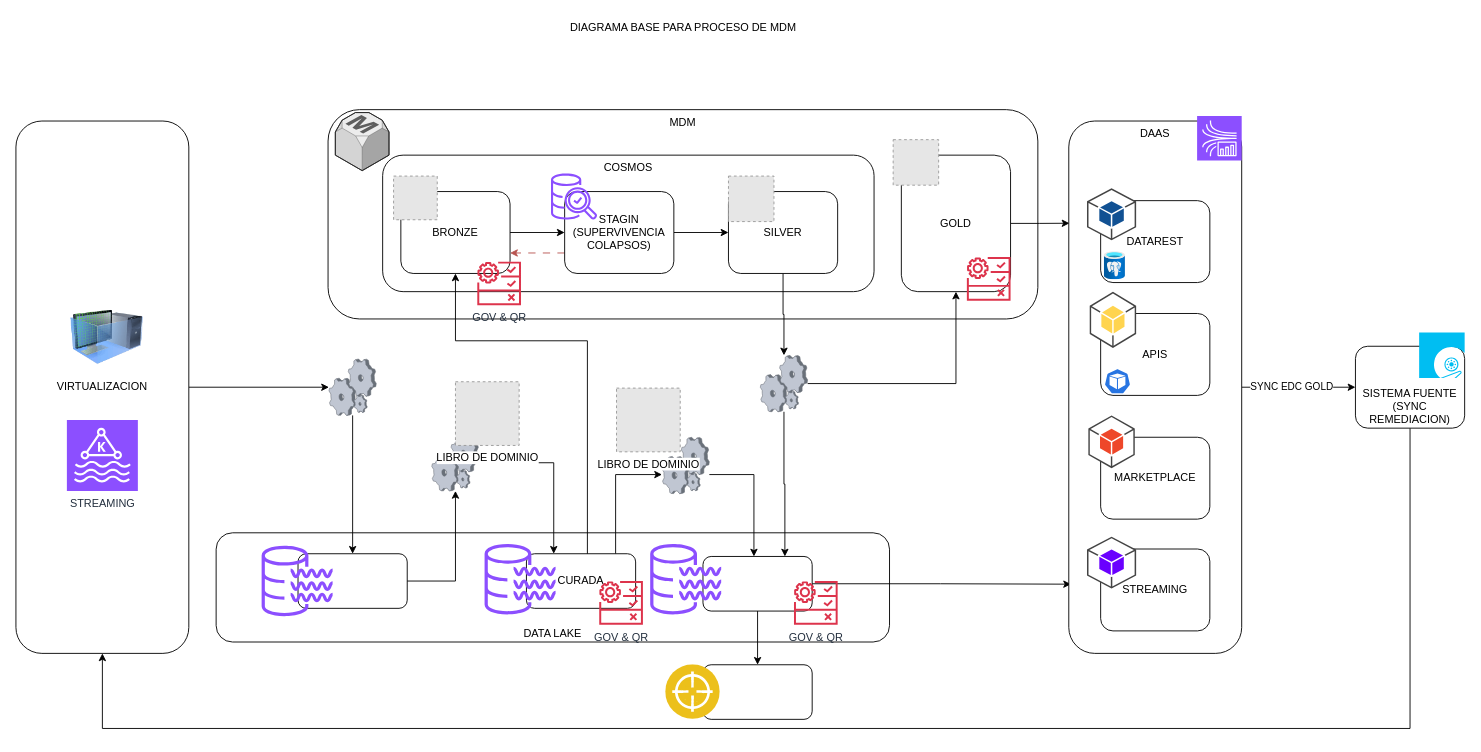
The diagram is 1481 pixels wide and 752 high, and some of its shapes have lost their labels. Grey dashed boxes stand in for pictures. Here are the shapes that lost their labels. From the top down, the centre of each, then its label:
At (988,278): "GOV & QR (Solicitar QA MDM)".
At (352,387): "DESEMBARCOS".
At (783,383): "PUBLISH GOLDEN RECORD".
At (455,462): "Construcción TT".
At (685,465): "Construcción TN / Dominio".
At (352,580): "RAW".
At (757,583): "PRODUCTIVA".
